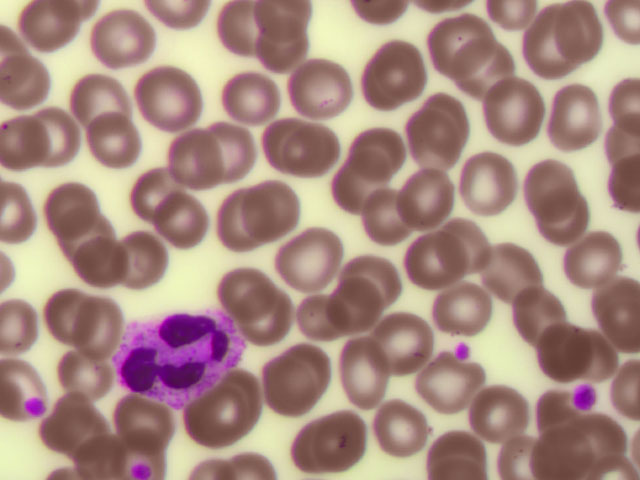Platelets: (570, 382, 600, 411), (451, 343, 475, 366), (27, 398, 45, 413)
RBC: (77, 429, 133, 480), (437, 429, 493, 480), (499, 429, 555, 480), (546, 429, 602, 480), (23, 1, 79, 51), (97, 11, 153, 61), (141, 74, 197, 124), (76, 74, 132, 124), (85, 119, 141, 169), (38, 109, 94, 159), (5, 123, 61, 173), (41, 181, 97, 231), (56, 207, 112, 257), (66, 235, 122, 285), (107, 235, 163, 285), (156, 197, 212, 247), (131, 168, 187, 218), (164, 137, 220, 187), (203, 129, 259, 179), (221, 74, 277, 124), (255, 113, 311, 163), (282, 132, 338, 182), (295, 63, 351, 113), (259, 22, 315, 72), (213, 5, 269, 55), (377, 41, 433, 91), (348, 66, 404, 116), (438, 19, 494, 69), (460, 36, 516, 86), (482, 81, 538, 131), (419, 96, 475, 146), (405, 120, 461, 170), (355, 126, 411, 176), (341, 153, 397, 203), (350, 192, 406, 242), (390, 166, 446, 216), (457, 155, 513, 205), (522, 156, 578, 206), (528, 195, 584, 245), (485, 249, 541, 299), (441, 214, 497, 264), (404, 236, 460, 286), (347, 249, 403, 299), (334, 275, 390, 325), (294, 294, 350, 344), (253, 297, 309, 347), (219, 266, 275, 316), (273, 235, 329, 285), (251, 176, 307, 226), (227, 190, 283, 240), (76, 303, 132, 353), (40, 289, 96, 339), (55, 340, 111, 390), (58, 398, 114, 448), (113, 407, 169, 457), (204, 393, 260, 443), (215, 373, 271, 423), (265, 354, 321, 404), (279, 338, 335, 388), (340, 350, 396, 400), (378, 315, 434, 365), (412, 354, 468, 404), (467, 377, 523, 427), (364, 402, 420, 452), (292, 421, 348, 471), (569, 422, 625, 472), (560, 329, 616, 379), (527, 327, 583, 377), (517, 290, 573, 340), (562, 235, 618, 285), (584, 155, 640, 205), (544, 100, 600, 150), (521, 11, 577, 61), (549, 2, 605, 52)
WBC: (117, 315, 239, 403)
